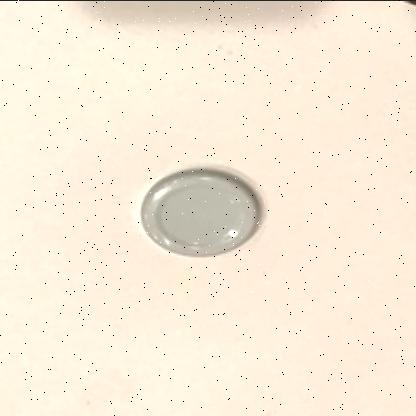Can: (140, 168, 264, 256)
